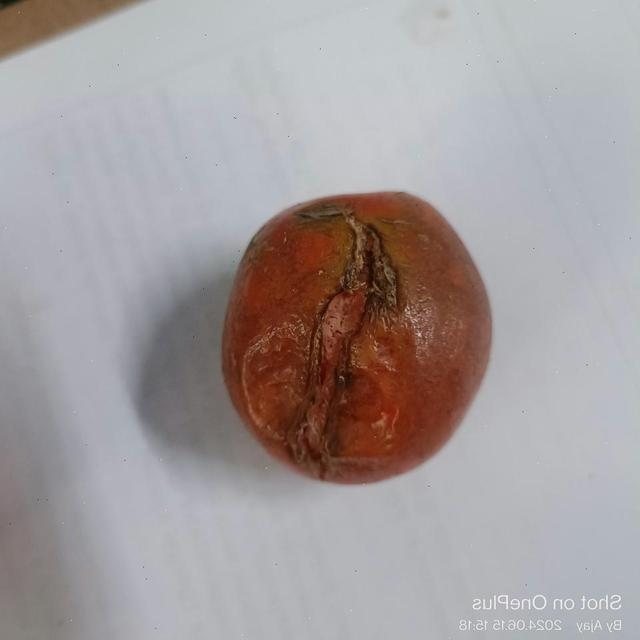Cracking Fruit: (92, 214, 336, 413)
